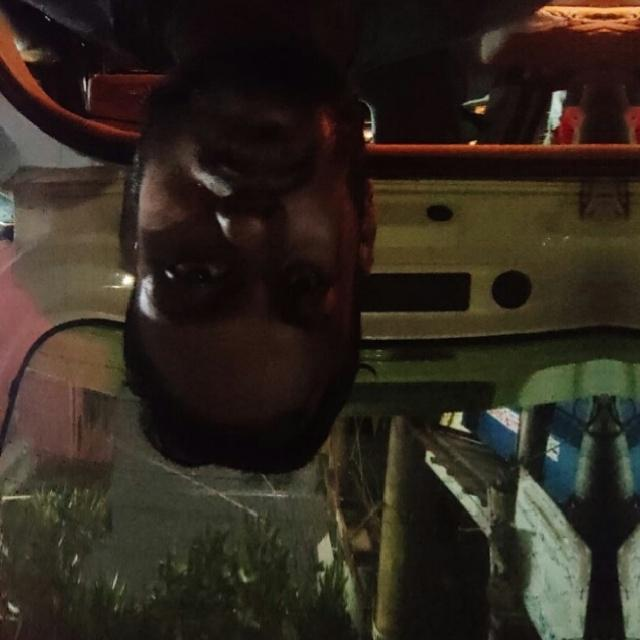Natural: (83, 62, 392, 485)
